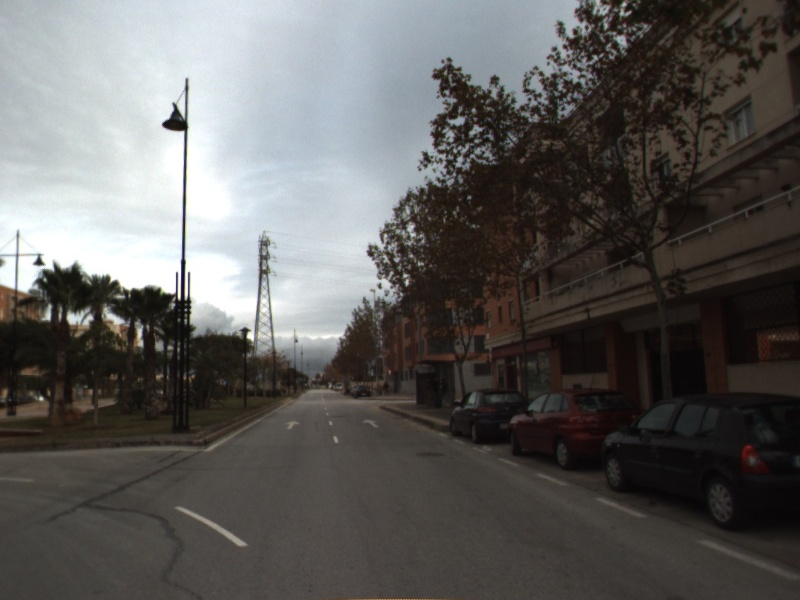STRAIGHT: (360, 417, 382, 430), (283, 418, 303, 431)
